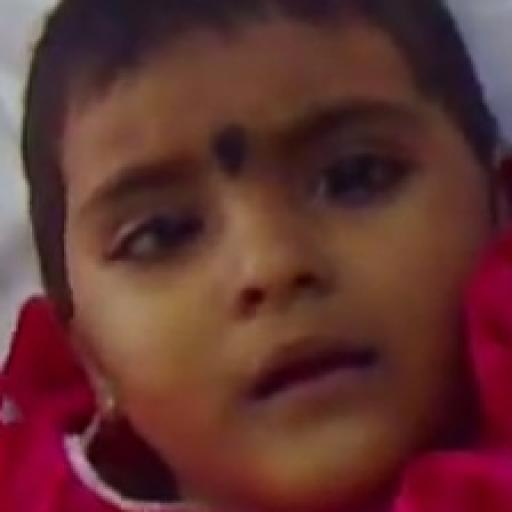Autism: (34, 4, 511, 512)
